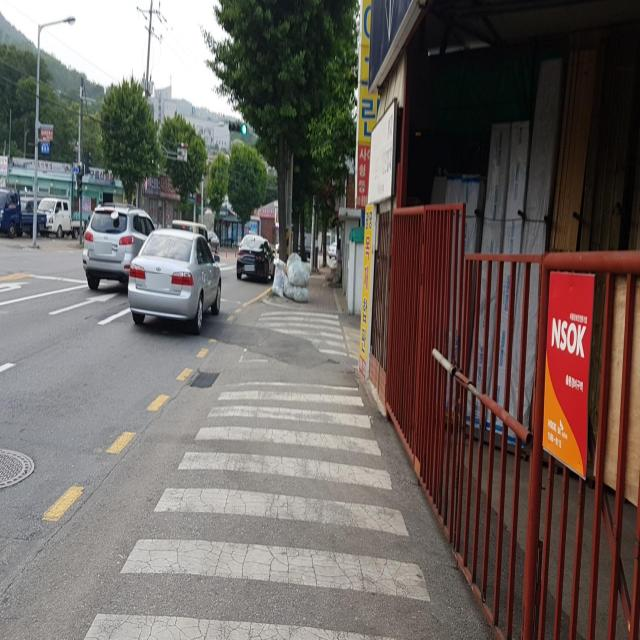횡단보도: (80, 306, 432, 640)
